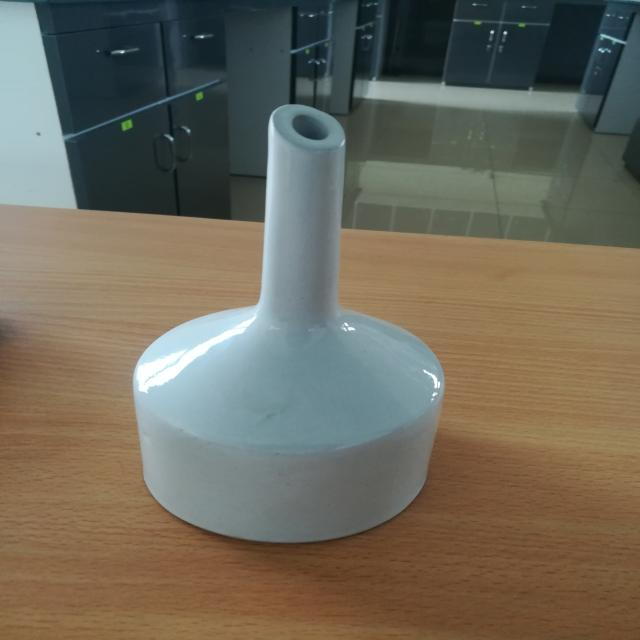Buchner_Funnel: (78, 56, 499, 584)
